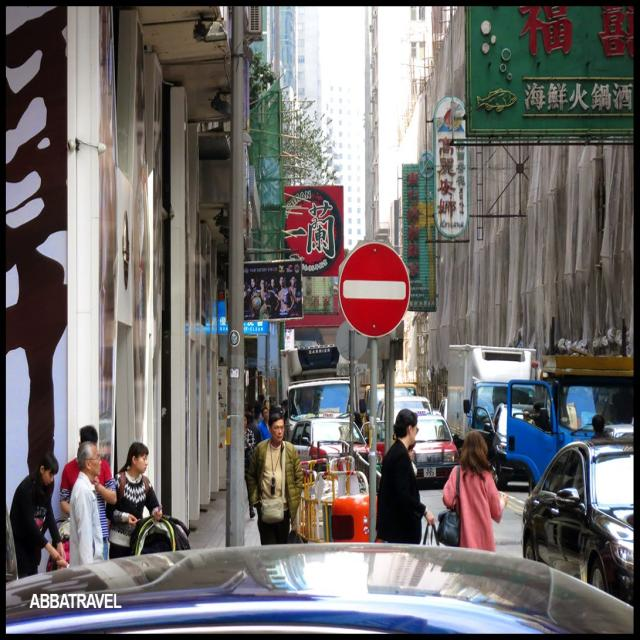body: (375, 406, 436, 546), (441, 430, 509, 553), (58, 424, 118, 561), (246, 410, 305, 547), (9, 450, 67, 580), (104, 440, 163, 559), (68, 440, 106, 565), (224, 272, 305, 320), (244, 413, 258, 520), (243, 392, 266, 425), (589, 413, 612, 440), (256, 405, 273, 441), (523, 402, 548, 426), (269, 389, 288, 420), (56, 556, 70, 570)
